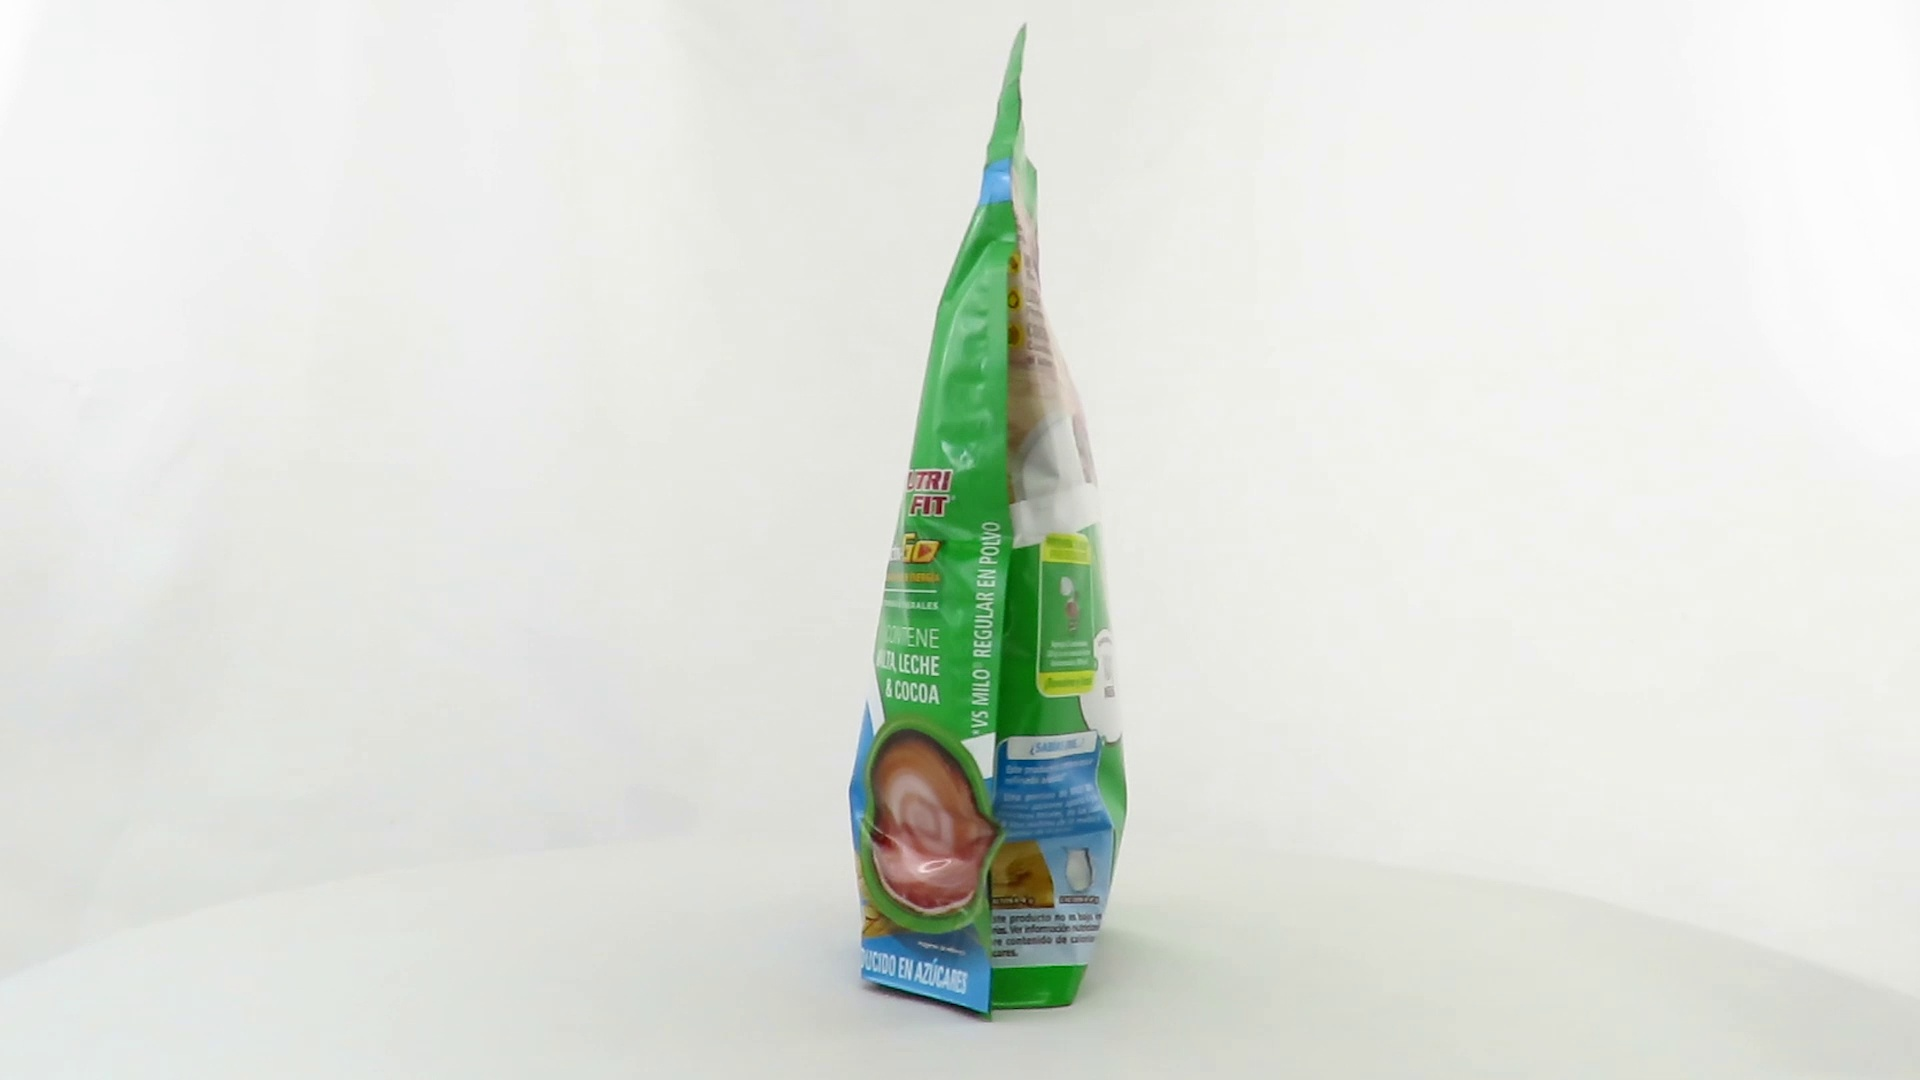COL0170205DYP50000: (843, 18, 1133, 1029)
